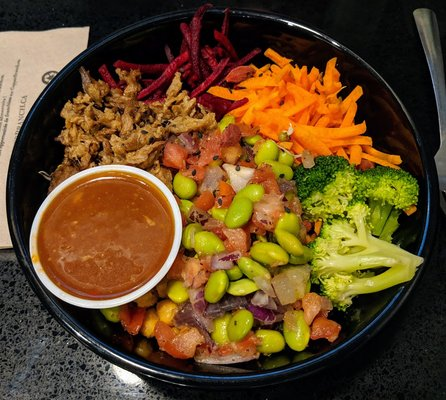curry: (293, 156, 424, 310)
sushi: (0, 2, 441, 390), (30, 164, 183, 312)
